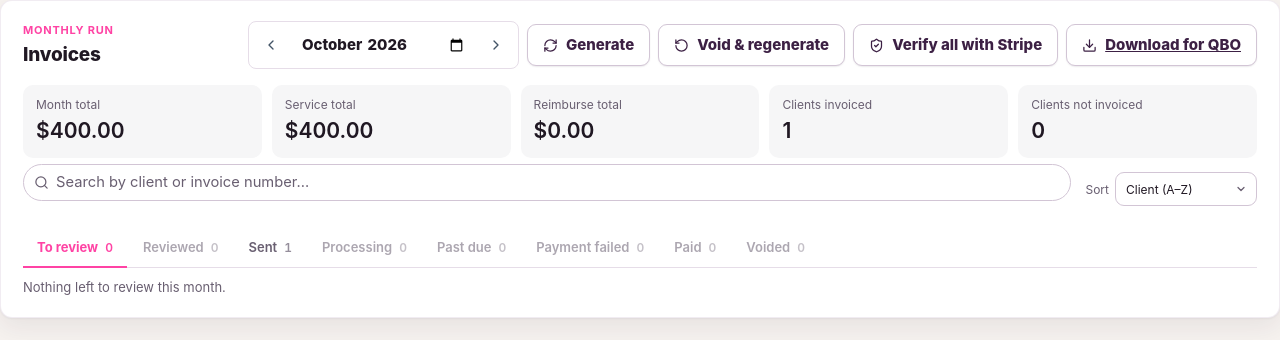
Test: the Past due tab › has its own empty message, so an empty tab reads as good news
The image size is (1280, 340).
Step 1. Click the tab "Past due 0" → click(472, 249), box top-left (423, 229), bottom-right (520, 268)
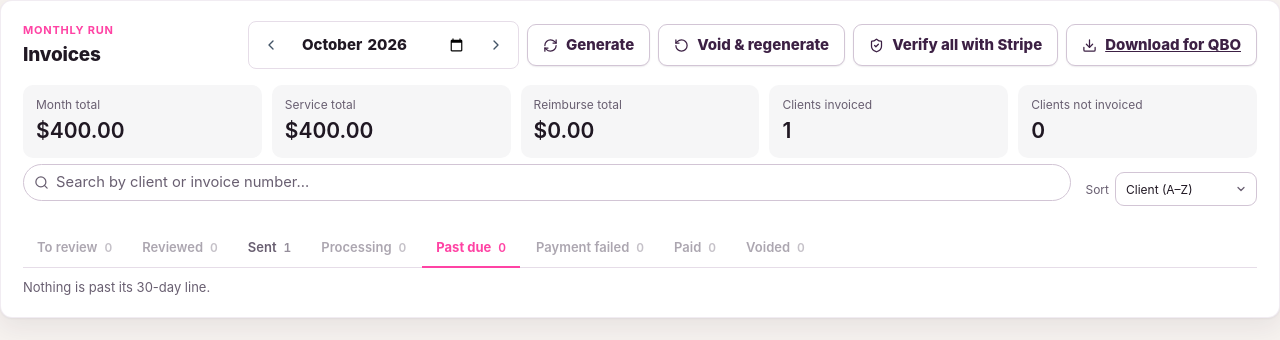
Result: the text "Nothing is past its 30-day line." is shown at top-left (23, 279), bottom-right (210, 295)
